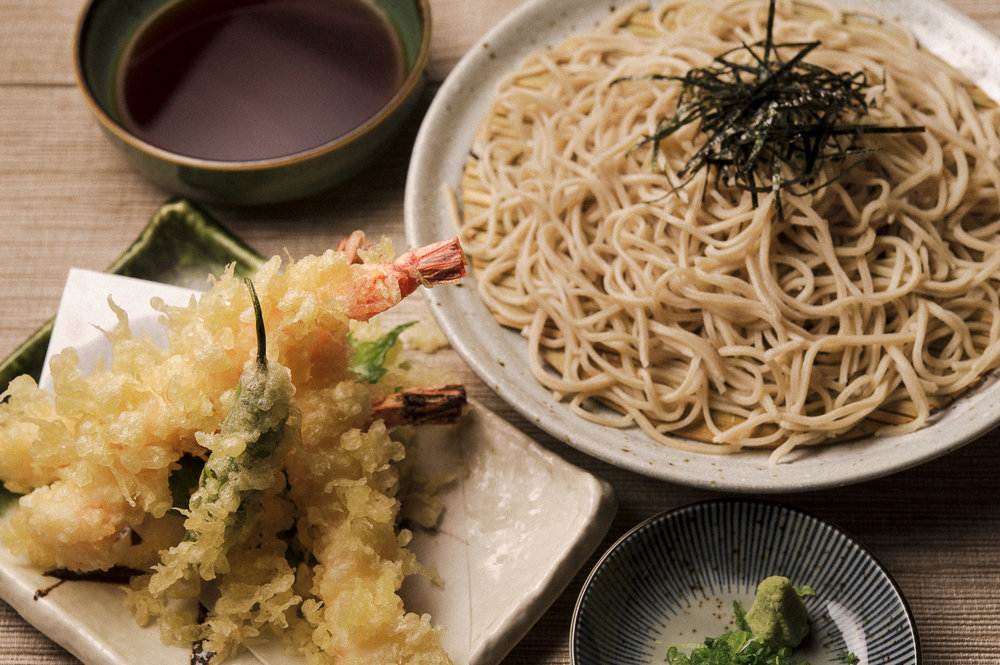Soba: (453, 2, 995, 456)
